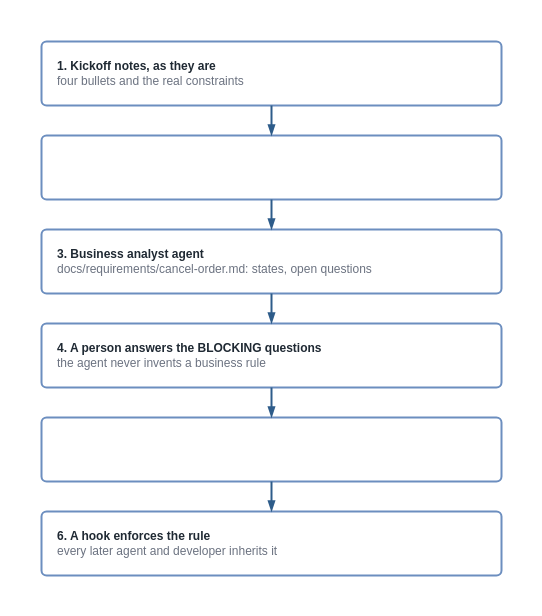
This 542x616 diagram has some shape labels left out. The centre of each missing label's shape, as x and y in pixels:
2. Planning agent docs/delivery-plan.md: order of work, dependencies: point 271,167
5. Solution architect agent an ADR, and checkable rules for AGENTS.md: point 271,449
